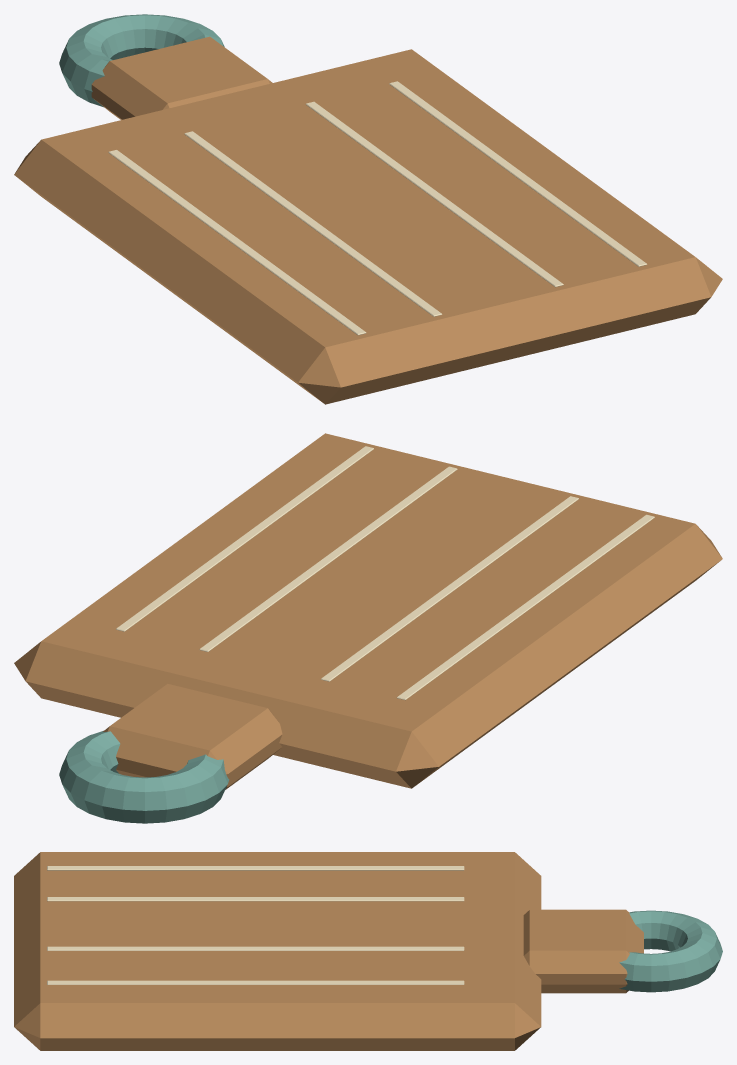
The picture shows the model from 3 angles, top to bottom: view 1: azimuth 30°, elevation 25°; view 2: azimuth 150°, elevation 25°; view 3: azimuth 270°, elevation 25°; orthographic projection. The views are drawn at different scales.
Visible parts, largest first — view 1: kitchen-cutting-board-01; view 2: kitchen-cutting-board-01; view 3: kitchen-cutting-board-01.
Part boxes in pixels (x1=…): kitchen-cutting-board-01: x1=14, y1=14, x2=722, y2=404; kitchen-cutting-board-01: x1=14, y1=433, x2=722, y2=823; kitchen-cutting-board-01: x1=14, y1=852, x2=722, y2=1050.
Bounding box in the file's own units: 0.28 × 0.0368 × 0.484.
